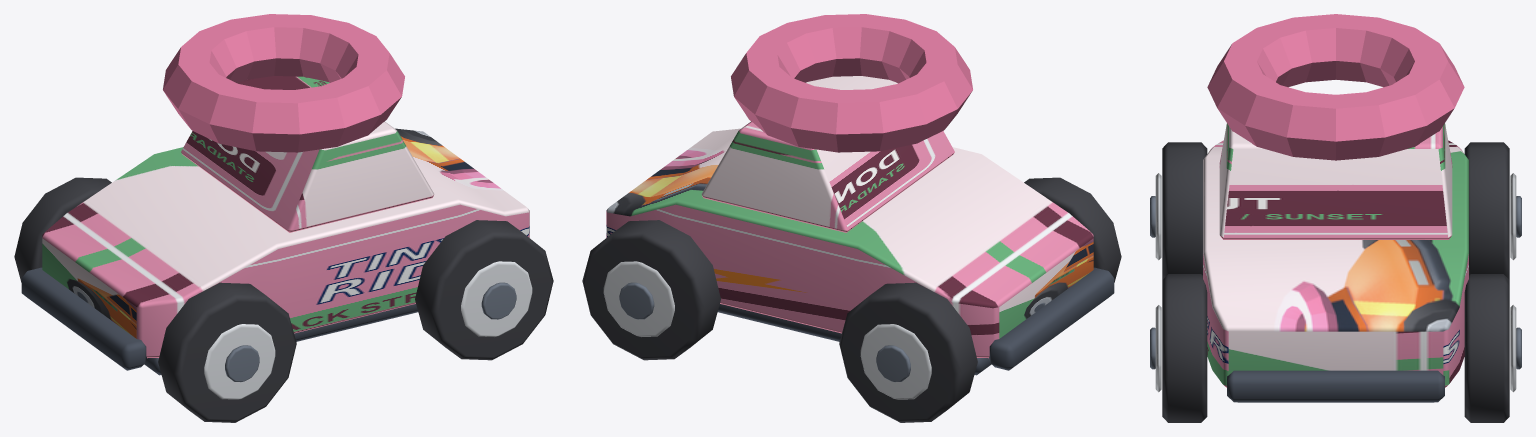
The picture shows the model from 3 angles, left to right: view 1: azimuth 30°, elevation 25°; view 2: azimuth 150°, elevation 25°; view 3: azimuth 270°, elevation 25°; orthographic projection. The views are drawn at different scales.
Visible parts, largest first — view 1: SS-05_connected_shell, real donut ring, SS-05_cabin, Tire, Tire.002, front bumper, Tire.001, Rim, Rim.002, underbody, Hub.002, Hub; view 2: SS-05_connected_shell, real donut ring, SS-05_cabin, Tire.001, Tire.003, front bumper, Tire, Rim.001, Rim.003, underbody, Hub.003, Hub.001; view 3: SS-05_connected_shell, real donut ring, SS-05_cabin, rear bumper, Tire.002, Tire.003, Tire, Tire.001, Rim, Rim.001, Rim.002, Rim.003.
Part boxes in pixels (<box>): SS-05_connected_shell: <box>42,128,529,358</box>; real donut ring: <box>163,14,404,152</box>; SS-05_cabin: <box>181,76,434,232</box>; Tire: <box>158,282,296,422</box>; Tire.002: <box>415,220,553,360</box>; front bumper: <box>21,267,146,370</box>; Tire.001: <box>14,177,111,282</box>; Rim: <box>204,324,275,399</box>; Rim.002: <box>461,261,532,336</box>; underbody: <box>144,304,418,375</box>; Hub.002: <box>481,282,516,319</box>; Hub: <box>225,345,259,382</box>; SS-05_connected_shell: <box>606,128,1093,358</box>; real donut ring: <box>731,14,972,152</box>; SS-05_cabin: <box>701,76,954,232</box>; Tire.001: <box>839,282,977,422</box>; Tire.003: <box>582,220,720,360</box>; front bumper: <box>989,267,1114,370</box>; Tire: <box>1024,177,1121,282</box>; Rim.001: <box>860,324,931,399</box>; Rim.003: <box>603,261,674,336</box>; underbody: <box>717,304,991,375</box>; Hub.003: <box>619,282,654,319</box>; Hub.001: <box>876,345,910,382</box>; SS-05_connected_shell: <box>1203,140,1468,387</box>; real donut ring: <box>1207,14,1464,160</box>; SS-05_cabin: <box>1219,123,1452,239</box>; rear bumper: <box>1227,370,1444,402</box>; Tire.002: <box>1162,274,1207,422</box>; Tire.003: <box>1464,274,1509,422</box>; Tire: <box>1162,142,1207,279</box>; Tire.001: <box>1464,142,1509,279</box>; Rim: <box>1155,173,1161,260</box>; Rim.001: <box>1510,173,1516,260</box>; Rim.002: <box>1155,305,1161,392</box>; Rim.003: <box>1510,305,1516,392</box>.
Size of the model in its own units: 295 by 183 by 214.
